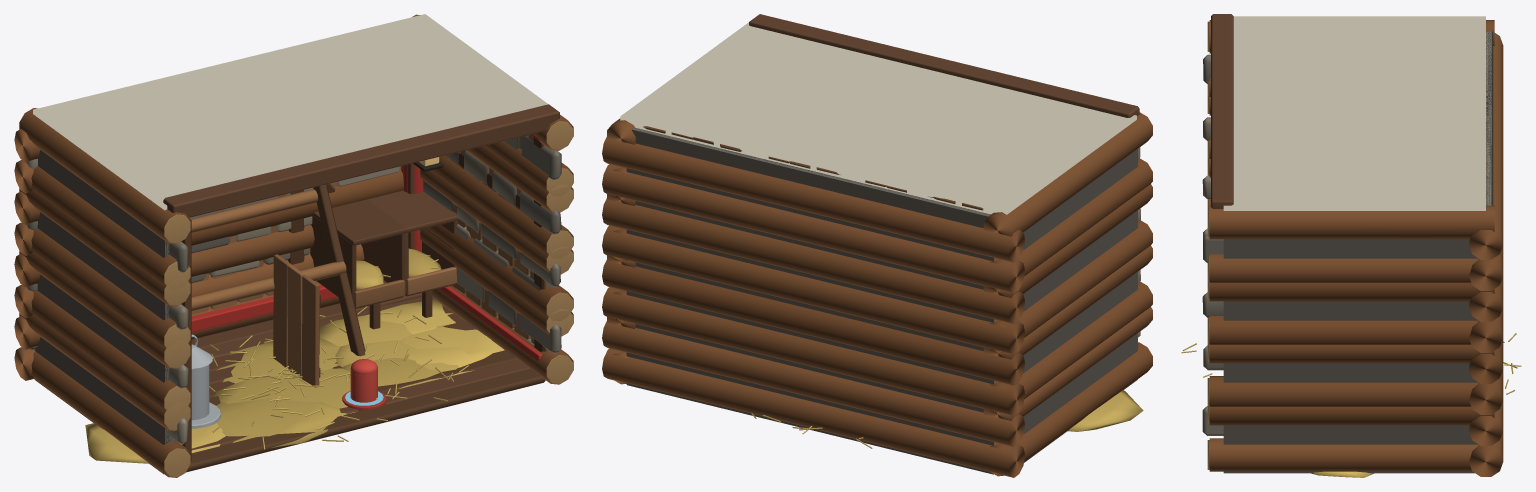
File: interiors.glb
3 views of the same model, side by side, from view 1: azimuth 30°, elevation 25°; view 2: azimuth 150°, elevation 25°; view 3: azimuth 270°, elevation 25° (orthographic).
Parts seen in each view (by area): view 1: inside_rir, inside_bra, inside_orp, inside_leg, inside_pop, inside_sil; view 2: inside_bra, inside_orp, inside_leg, inside_rir; view 3: inside_bra, inside_orp, inside_leg, inside_rir.
Part boxes in pixels (box(x1,y1,x2,y2)): inside_rir: box(85, 104, 559, 472); inside_bra: box(14, 14, 573, 477); inside_orp: box(33, 14, 551, 443); inside_leg: box(26, 135, 561, 474); inside_pop: box(273, 254, 320, 387); inside_sil: box(182, 134, 541, 444); inside_bra: box(602, 112, 1152, 477); inside_orp: box(620, 22, 1136, 443); inside_leg: box(626, 126, 1140, 474); inside_rir: box(643, 14, 1143, 448); inside_bra: box(1207, 20, 1503, 476); inside_orp: box(1223, 16, 1491, 210); inside_leg: box(1202, 31, 1493, 473); inside_rir: box(1181, 14, 1521, 477).
Bounding box in the file's own units: 1.77 × 1.08 × 1.19.
